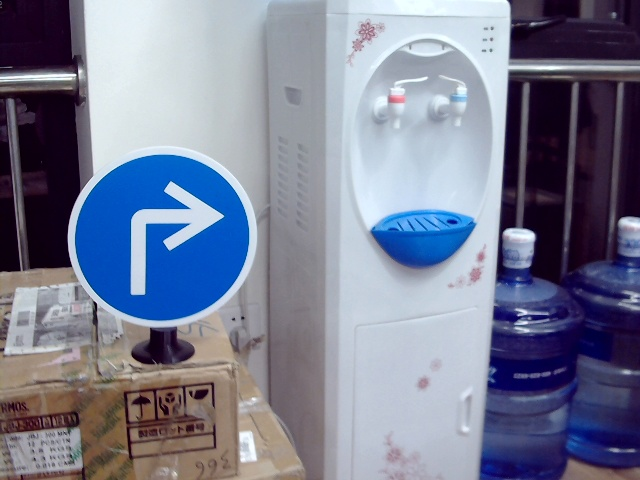turn_right: (121, 182, 224, 293)
